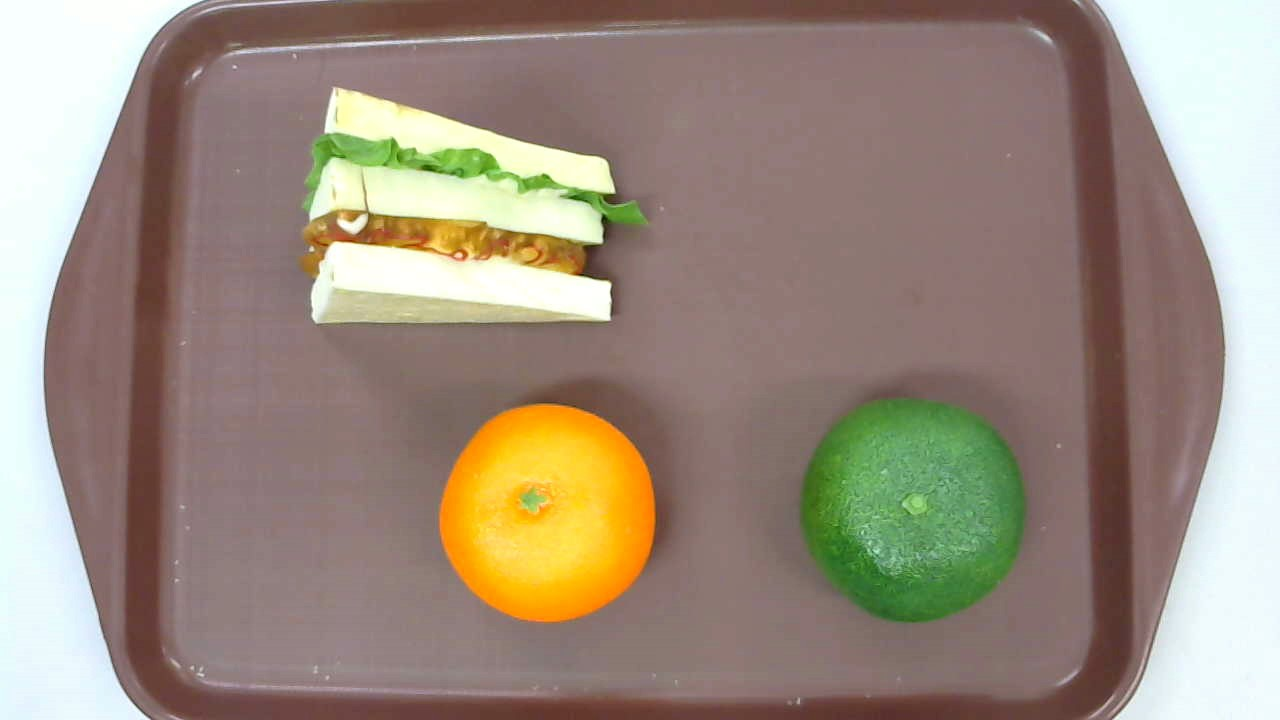green orange: (802, 396, 1026, 624)
orange: (438, 404, 657, 622)
sandwich: (298, 86, 653, 326)
